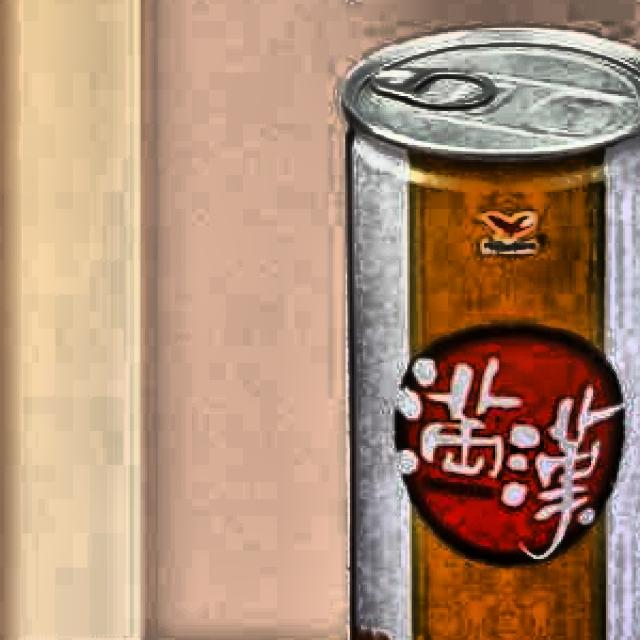metal: (330, 21, 640, 639)
